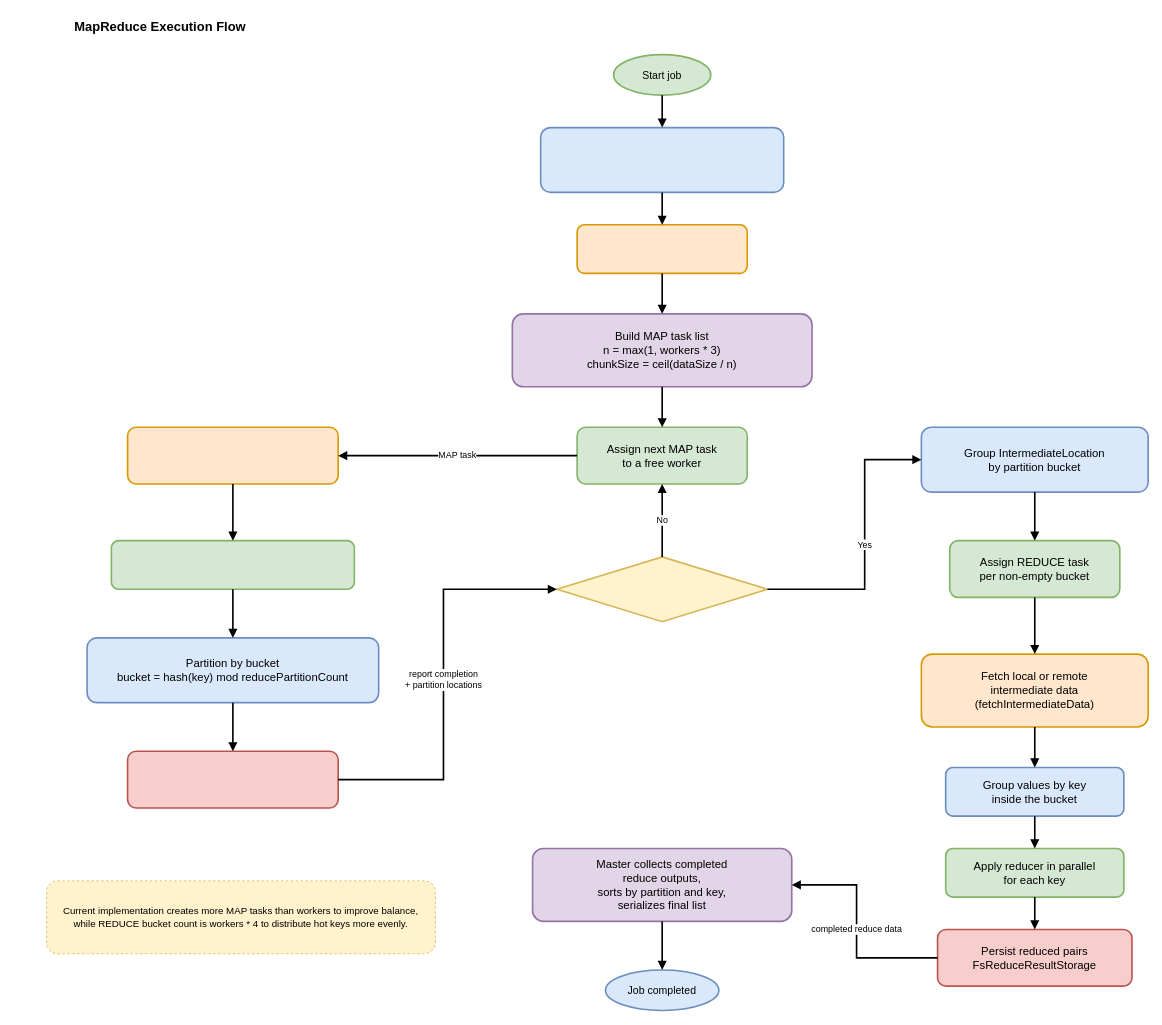
This 1162x1025 diagram has some shape labels left out. Here are the shapes that lost their labels. From the top down, the centre of each, then its label:
At pixel 661 159: "Deserialize JobConfiguration and open DataProviderClient".
At pixel 662 249: "Query dataset size".
At pixel 232 455: "Worker fetches chunk fetchChunk(offset, limit)".
At pixel 232 564: "Parallel map on local records".
At pixel 662 589: "All MAP tasks completed?".
At pixel 232 779: "Persist intermediate partitions FsIntermediateStorage".
